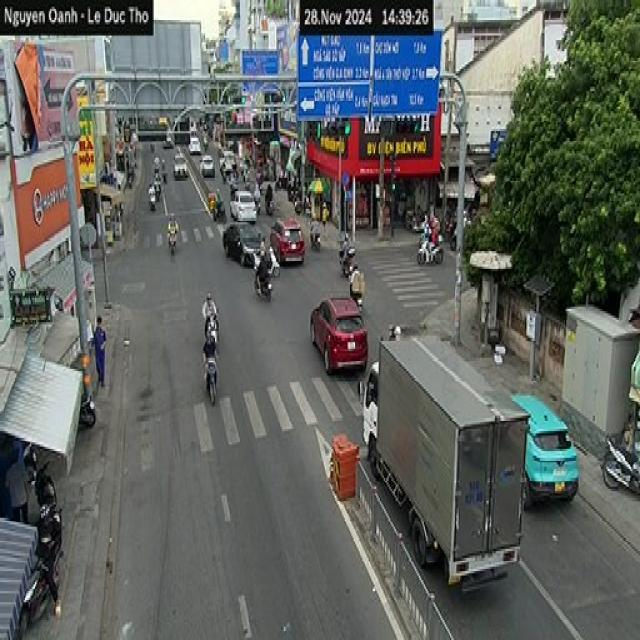car: (512, 379, 582, 518), (308, 289, 372, 381)
truck: (360, 325, 528, 600)
